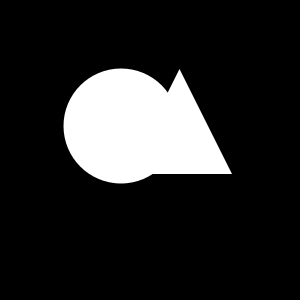rectangle: (63, 68, 178, 184)
triangle: (127, 69, 232, 174)
